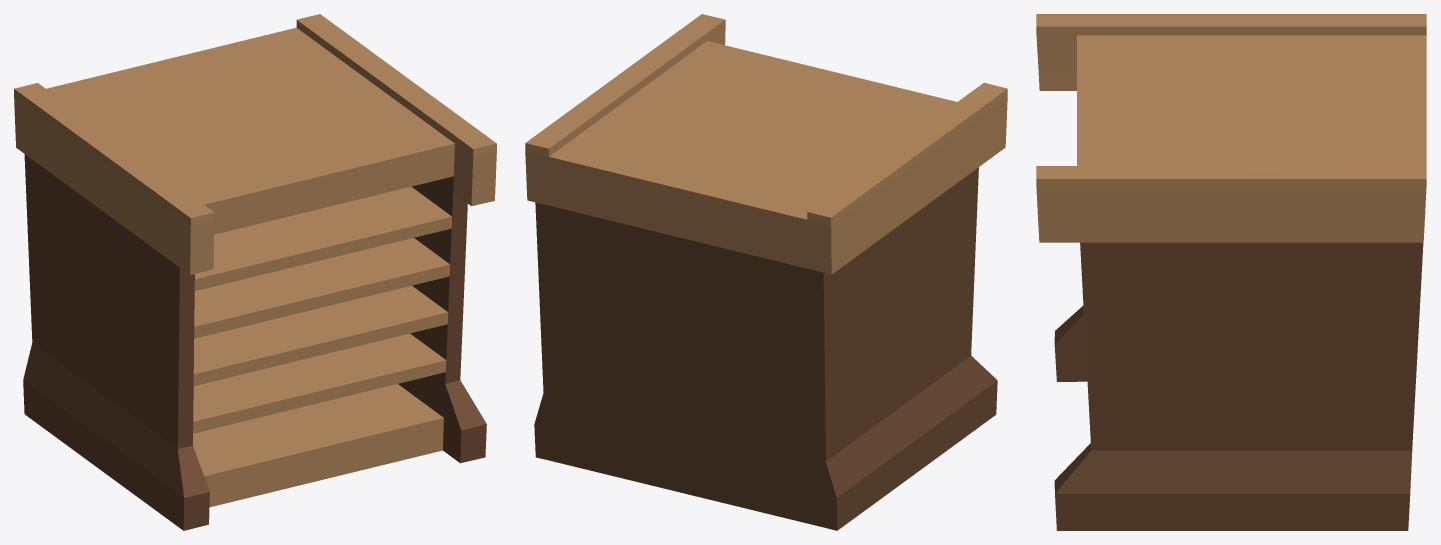
Rendered from qt-book-case-large.glb.
The picture shows the model from 3 angles, left to right: view 1: azimuth 30°, elevation 25°; view 2: azimuth 150°, elevation 25°; view 3: azimuth 270°, elevation 25°; orthographic projection. The views are drawn at different scales.
Parts seen in each view (by area): view 1: BookCaseLarge_Cube.005; view 2: BookCaseLarge_Cube.005; view 3: BookCaseLarge_Cube.005.
Part boxes in pixels (x1=…): BookCaseLarge_Cube.005: x1=14, y1=14, x2=496, y2=530; BookCaseLarge_Cube.005: x1=525, y1=14, x2=1007, y2=530; BookCaseLarge_Cube.005: x1=1036, y1=14, x2=1426, y2=530.
Size of the model in its own units: 1 by 1 by 1.
